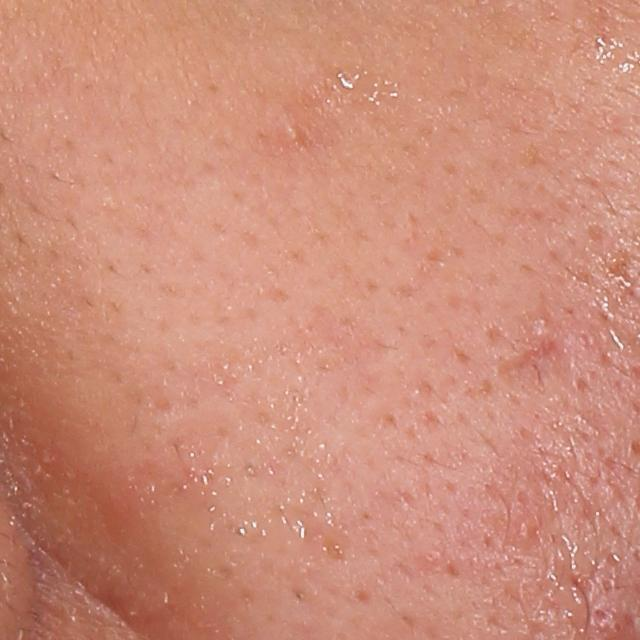atrophic_scar: (492, 334, 564, 389)
